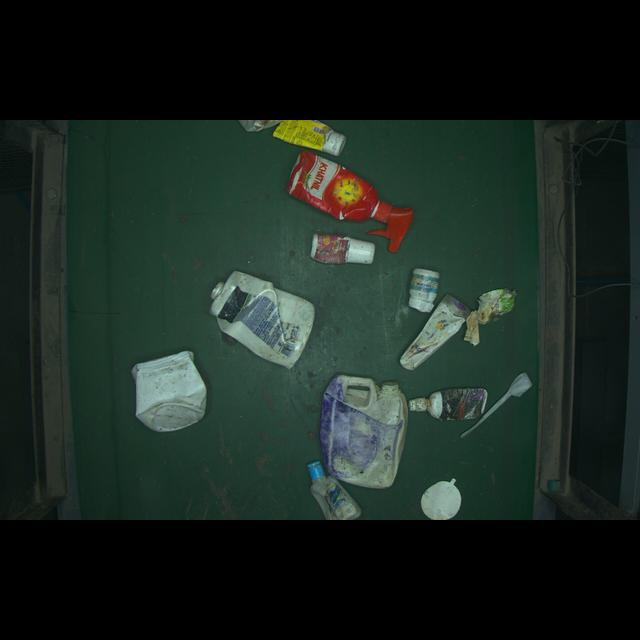mix PET: (194, 269, 318, 371), (320, 371, 409, 486), (130, 351, 221, 431), (306, 223, 382, 276), (407, 260, 441, 319)
